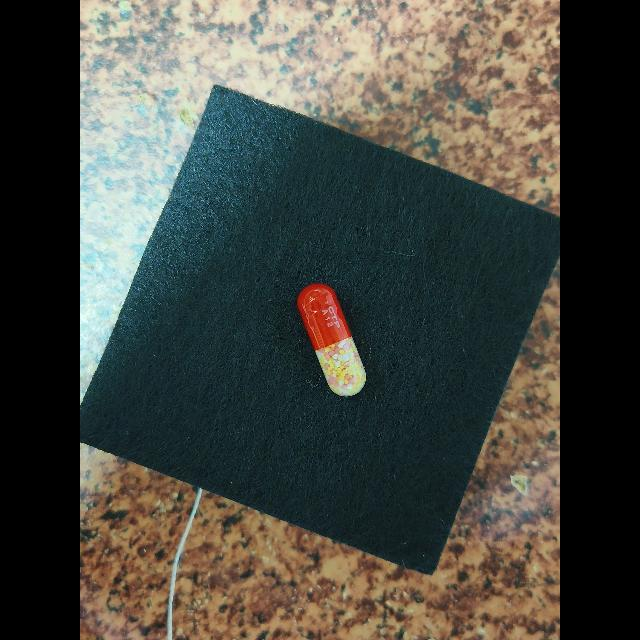Intact Capsule: (297, 283, 366, 396)
